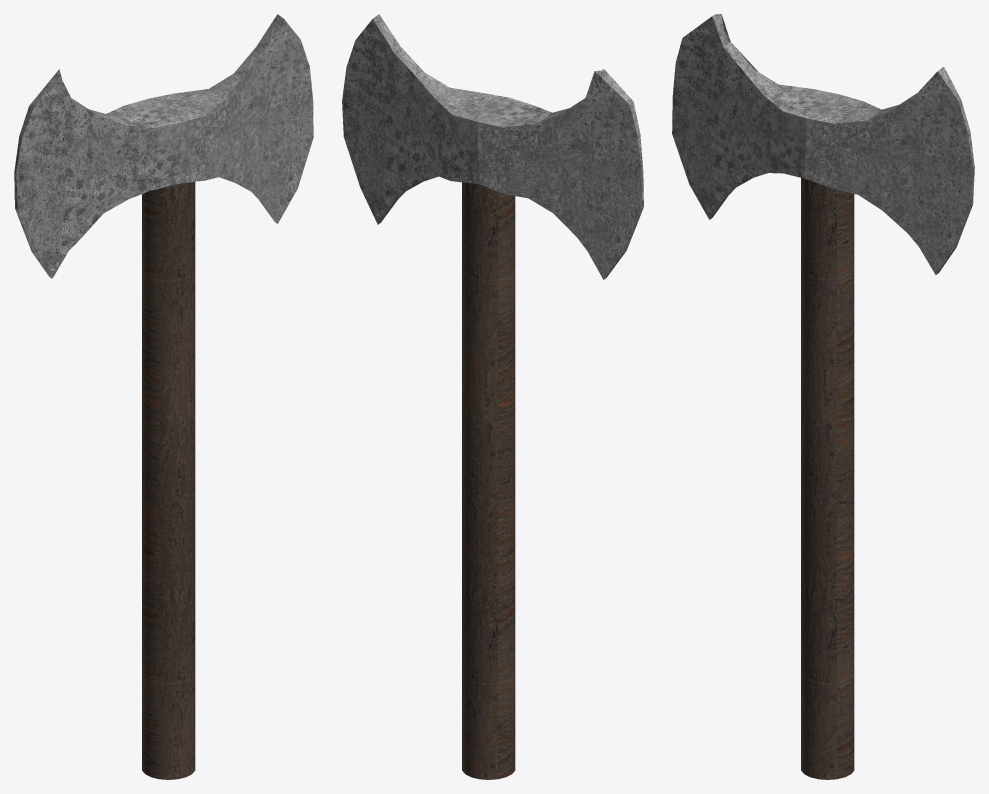
Rendered from OU_AR_Axe_01_D.fbx.
3 renders of one model, left to right at view 1: azimuth 30°, elevation 25°; view 2: azimuth 150°, elevation 25°; view 3: azimuth 330°, elevation 25°, orthographic.
Visible parts, largest first — view 1: axe; view 2: axe; view 3: axe.
Part boxes in pixels (left/top/right/bottom): axe: left=14, top=14, right=313, bottom=779; axe: left=342, top=14, right=643, bottom=779; axe: left=672, top=14, right=974, bottom=779.
Bounding box in the file's own units: 23.24 × 53.95 × 4.41.
Materials: 2 (2 with a texture image).
